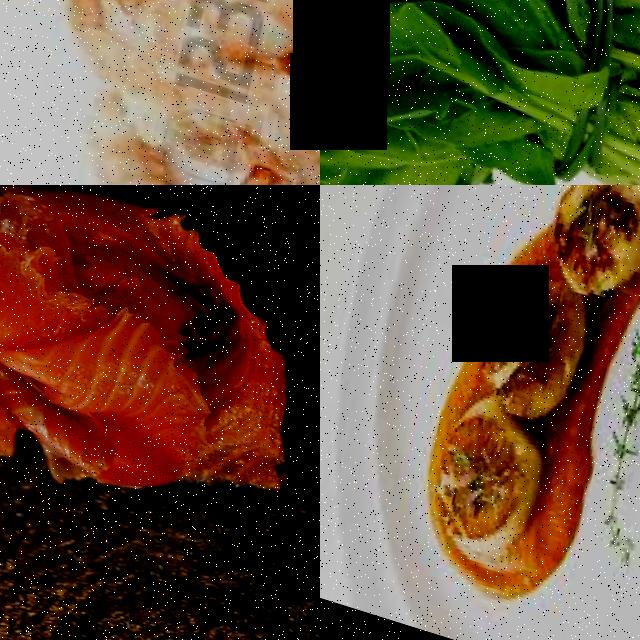salmon: (0, 309, 227, 515), (0, 187, 63, 479)
sea scallops: (398, 402, 549, 568)
shrimp: (32, 111, 284, 185), (189, 90, 320, 185)
spinach: (320, 0, 494, 156), (383, 0, 562, 41)
